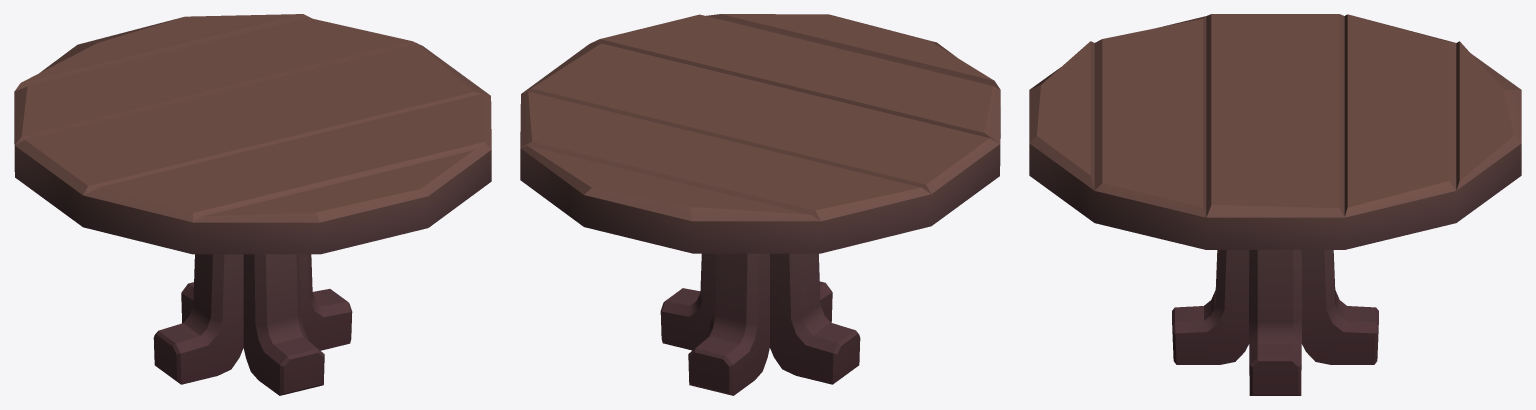
Rendered from SM_Table_Round.fbx.
The picture shows the model from 3 angles, left to right: view 1: azimuth 30°, elevation 25°; view 2: azimuth 150°, elevation 25°; view 3: azimuth 270°, elevation 25°; orthographic projection.
Parts seen in each view (by area): view 1: SM_Table; view 2: SM_Table; view 3: SM_Table.
Boxes of the visible parts, x1=… form: SM_Table: x1=14, y1=14, x2=491, y2=395; SM_Table: x1=520, y1=14, x2=1000, y2=395; SM_Table: x1=1029, y1=14, x2=1521, y2=395.
Bounding box in the file's own units: 109 × 61.33 × 113.
Materials: 1 (1 with a texture image).
